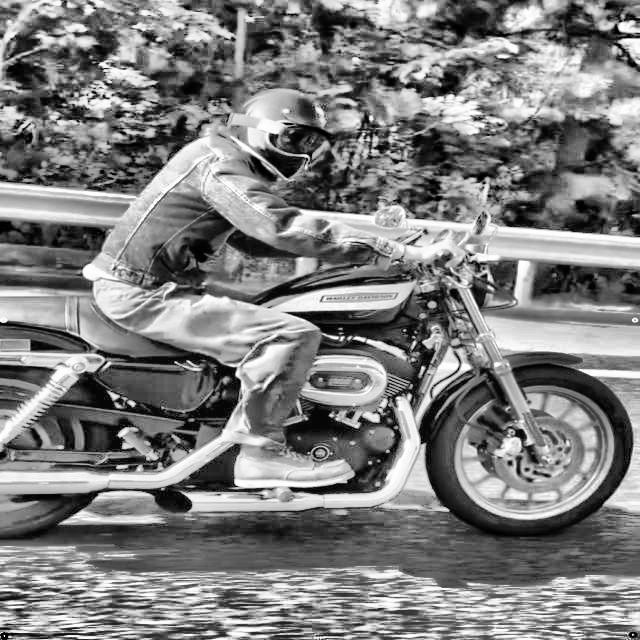Helmet: (214, 85, 336, 187)
